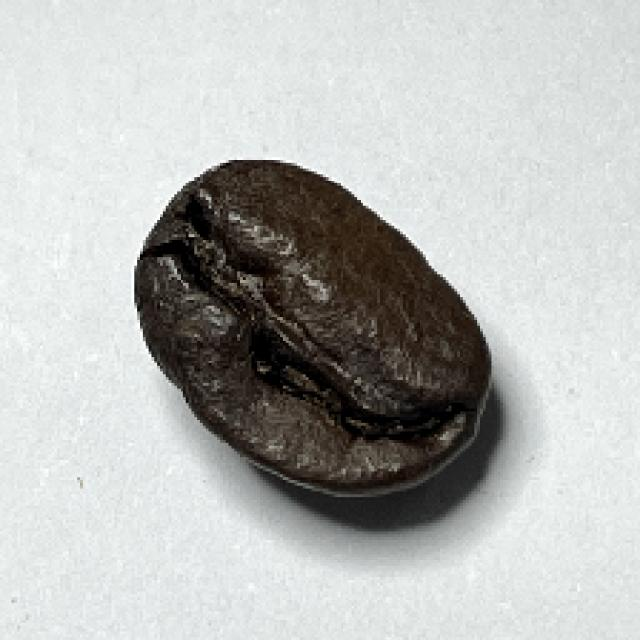bean: (130, 157, 495, 496)
